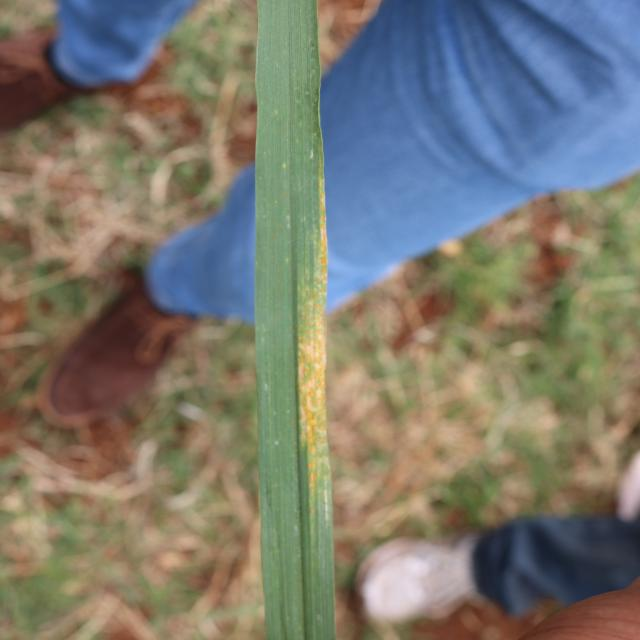Stripe Rust: (292, 331, 338, 526), (317, 182, 331, 323)
